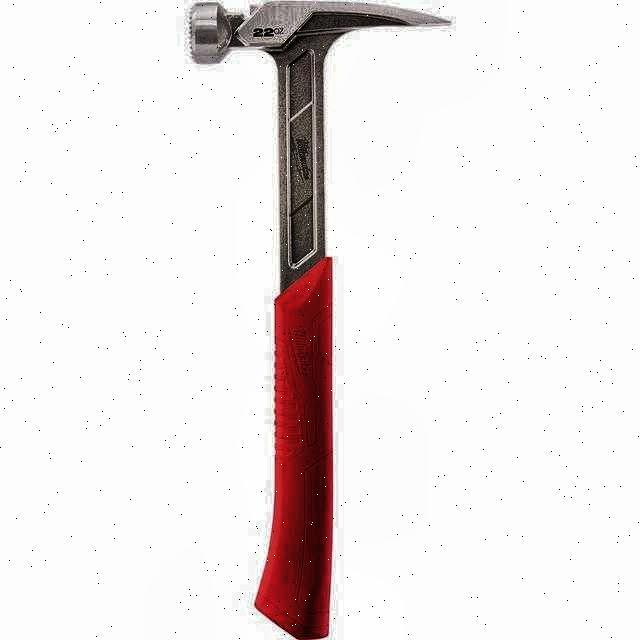hammer: (184, 2, 448, 640)
